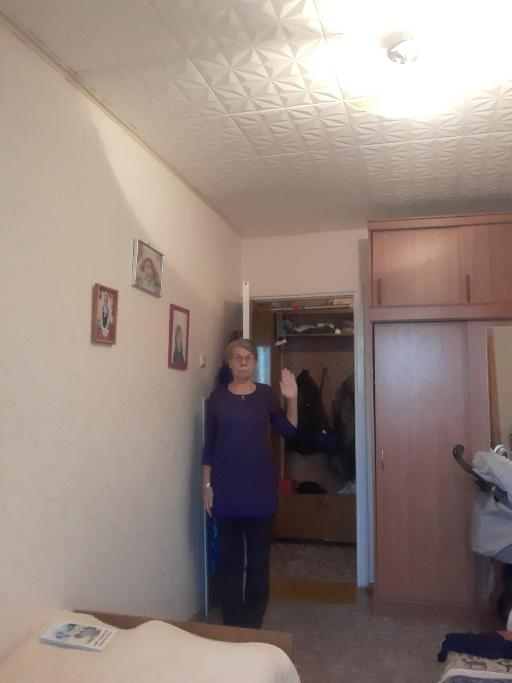no_gesture: (199, 483, 216, 519)
stop: (277, 365, 299, 400)
